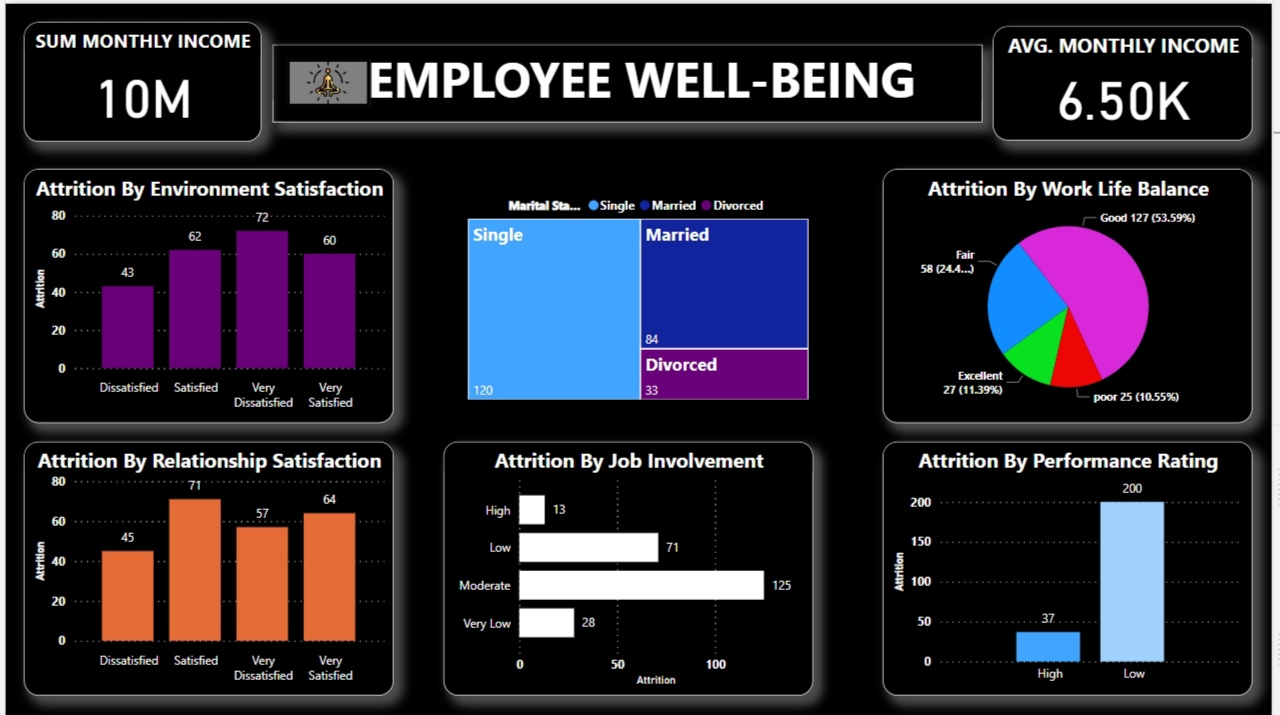

The page's visual inventory and layout, read from the dashboard file:
{"tool":"powerbi","page":{"name":"Page 5","canvas":[1280,720],"ordinal":4},"visuals":[{"type":"textbox","title":".      EMPLOYEE WELL-BEING","box":[269.7,41.4,717.8,78.5],"z":0},{"type":"card","title":"SUM MONTHLY INCOME","fields":{"Values":["Sum(public employee.monthlyincome)"]},"box":[18.6,18.6,239.7,121.3],"z":1000},{"type":"card","title":"AVG. MONTHLY INCOME","fields":{"Values":["Avg(public employee.monthlyincome)"]},"box":[998.9,22.8,262.6,115.6],"z":2000},{"type":"actionButton","box":[284,55.7,84.2,48.5],"z":3000},{"type":"clusteredColumnChart","title":" Attrition By Environment Satisfaction","fields":{"Y":["Sum(public employee.AttritionColumn)"],"Category":["public employee.environmentsatisfactioncategory"]},"box":[18.6,167,373.9,256.9],"z":4000},{"type":"columnChart","title":"Attrition By Relationship  Satisfaction","fields":{"Category":["public employee.Relationsatisfactioncategory"],"Y":["Sum(public employee.AttritionColumn)"]},"box":[18.6,442.4,373.9,256.9],"z":5000},{"type":"pieChart","title":"Attrition By Work Life Balance ","fields":{"Y":["Sum(public employee.AttritionColumn)"],"Category":["public employee.WorklifeBalancedword"]},"box":[887.6,167,373.9,256.9],"z":6000},{"type":"clusteredBarChart","title":" Attrition By Job Involvement ","fields":{"Y":["Sum(public employee.AttritionColumn)"],"Category":["public employee.JobInvolvement Category"]},"box":[442.4,442.4,373.9,256.9],"z":7000},{"type":"treemap","title":" Attrition By Environment Satisfaction","fields":{"Group":["public employee.maritalstatus"],"Values":["Sum(public employee.AttritionColumn)"]},"box":[462.3,184.1,353.9,221.2],"z":8000},{"type":"clusteredColumnChart","title":"Attrition By Performance Rating","fields":{"Category":["public employee.Performance Rating Category"],"Y":["Sum(public employee.AttritionColumn)"]},"box":[887.6,442.4,373.9,256.9],"z":9000}]}

Visuals, with their boxes in screenshot pixels (x1, y1, x2, y2), scaled from the page's 1280x720 canvas onto the 1280x715 screenshot:
".      EMPLOYEE WELL-BEING" textbox: x1=270, y1=41, x2=988, y2=119
"SUM MONTHLY INCOME" card: x1=19, y1=18, x2=258, y2=139
"AVG. MONTHLY INCOME" card: x1=999, y1=23, x2=1262, y2=137
actionButton: x1=284, y1=55, x2=368, y2=103
" Attrition By Environment Satisfaction" clusteredColumnChart: x1=19, y1=166, x2=392, y2=421
"Attrition By Relationship  Satisfaction" columnChart: x1=19, y1=439, x2=392, y2=694
"Attrition By Work Life Balance " pieChart: x1=888, y1=166, x2=1262, y2=421
" Attrition By Job Involvement " clusteredBarChart: x1=442, y1=439, x2=816, y2=694
" Attrition By Environment Satisfaction" treemap: x1=462, y1=183, x2=816, y2=402
"Attrition By Performance Rating" clusteredColumnChart: x1=888, y1=439, x2=1262, y2=694
